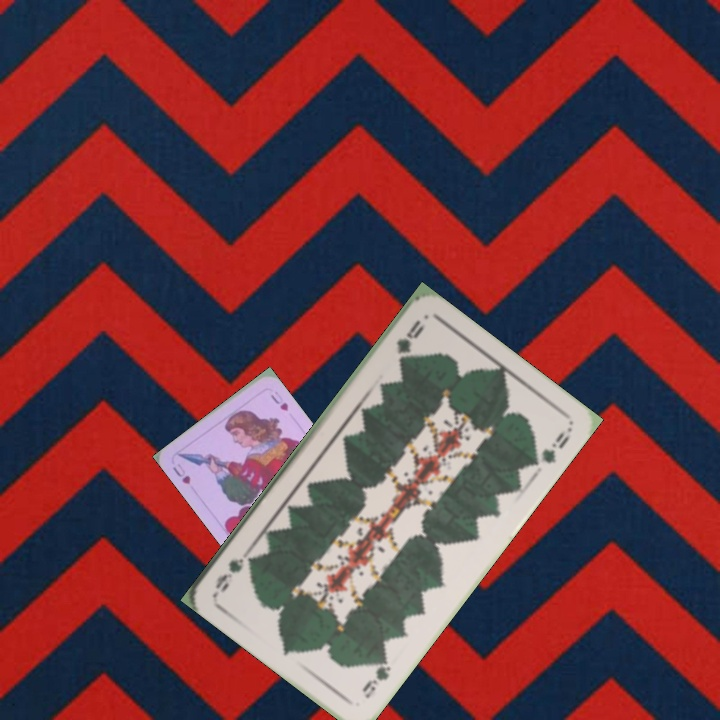G9: (358, 650, 394, 702), (392, 315, 427, 368)
HU: (168, 459, 193, 487)
